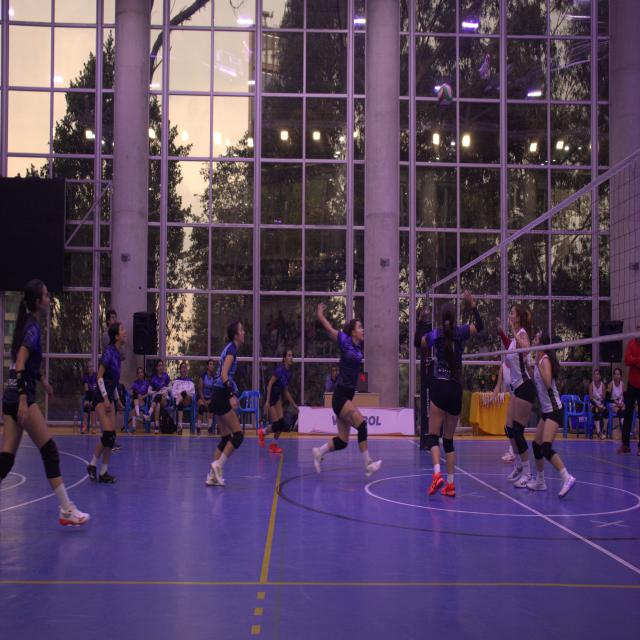volleyball: (438, 84, 453, 108)
